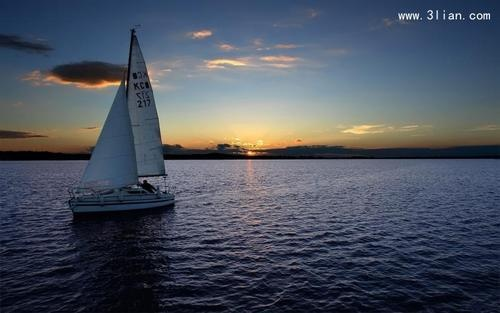fanchuan: (64, 22, 178, 216)
